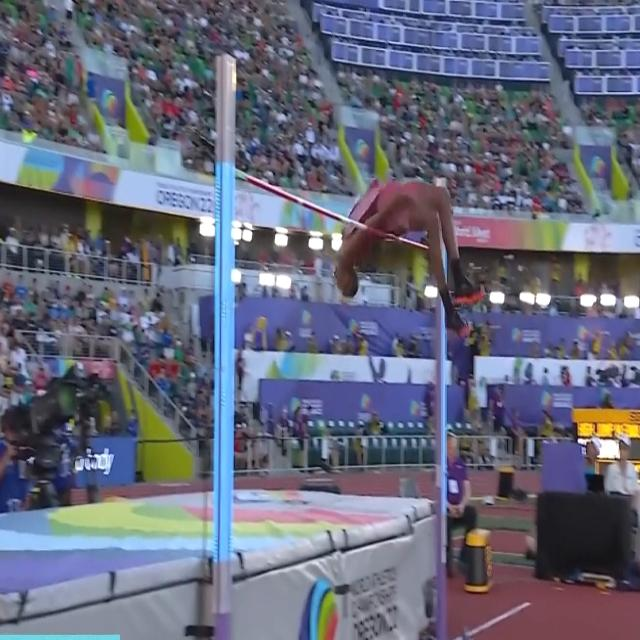jump: (332, 174, 488, 344)
